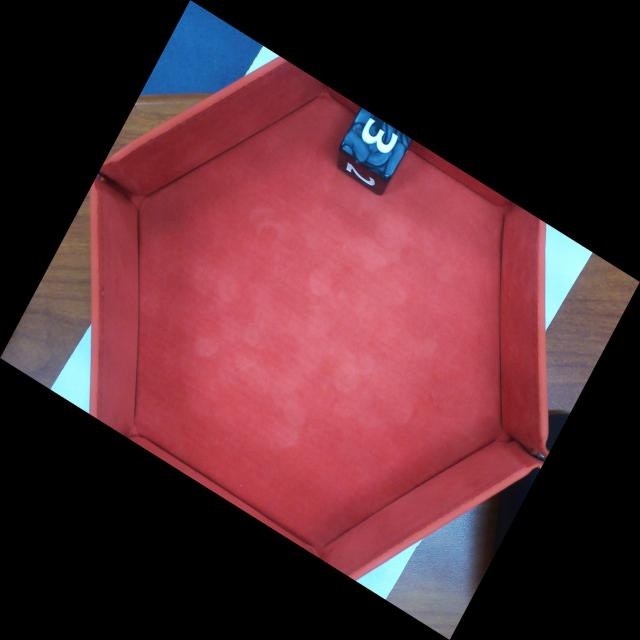dice: (344, 112, 410, 177)
